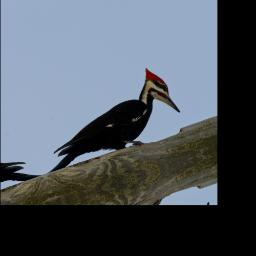Woodpecker: (37, 58, 187, 172)
